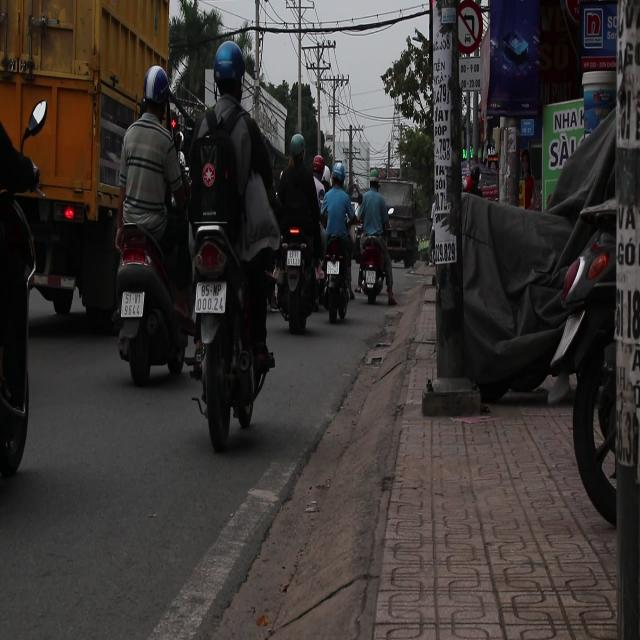motorbike: (182, 59, 277, 421), (0, 56, 48, 500), (112, 228, 189, 385), (280, 229, 314, 338), (320, 235, 355, 324), (355, 231, 395, 304)
